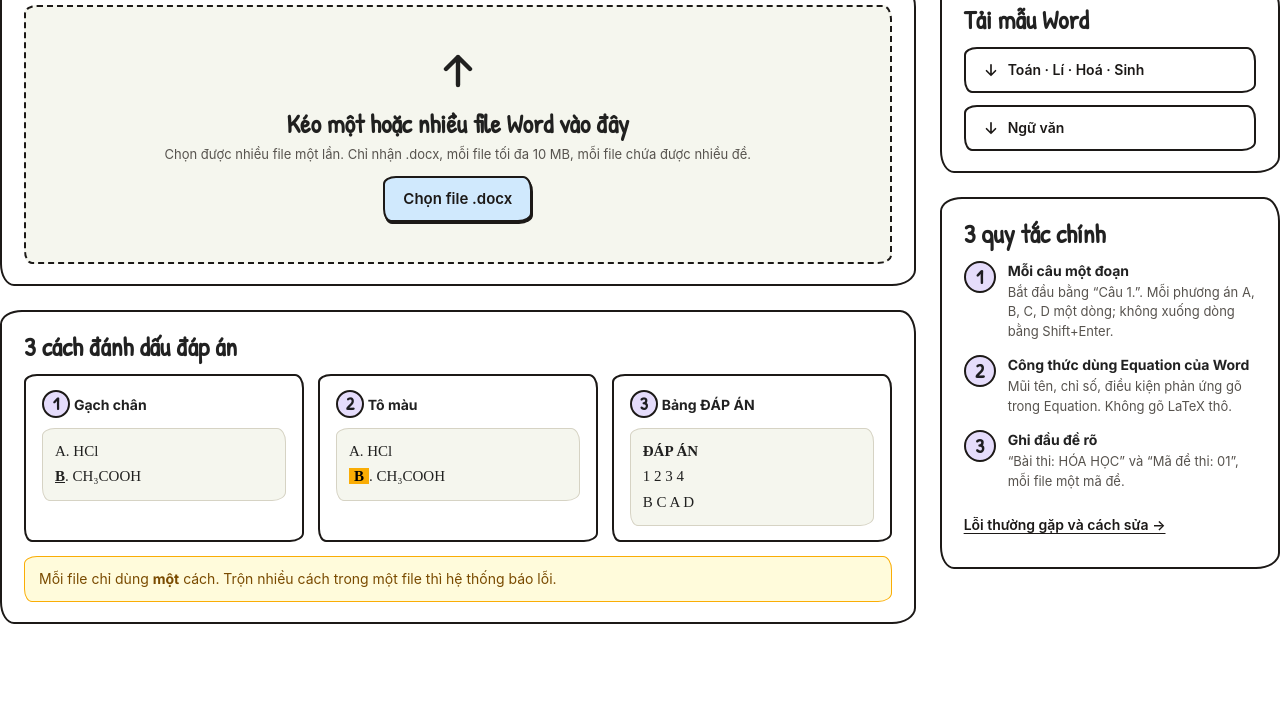
Test: ImportExam: QC round (B1, B4, B5, B12) › B4: the upload page opens the guide as a dialog
(page scrolled)
# SPT-99: a dialog on the same screen, not another page
Click the button "Lỗi thường gặp và cách sửa →" at (1065, 525), box [964,503,1166,547]
(page scrolled)
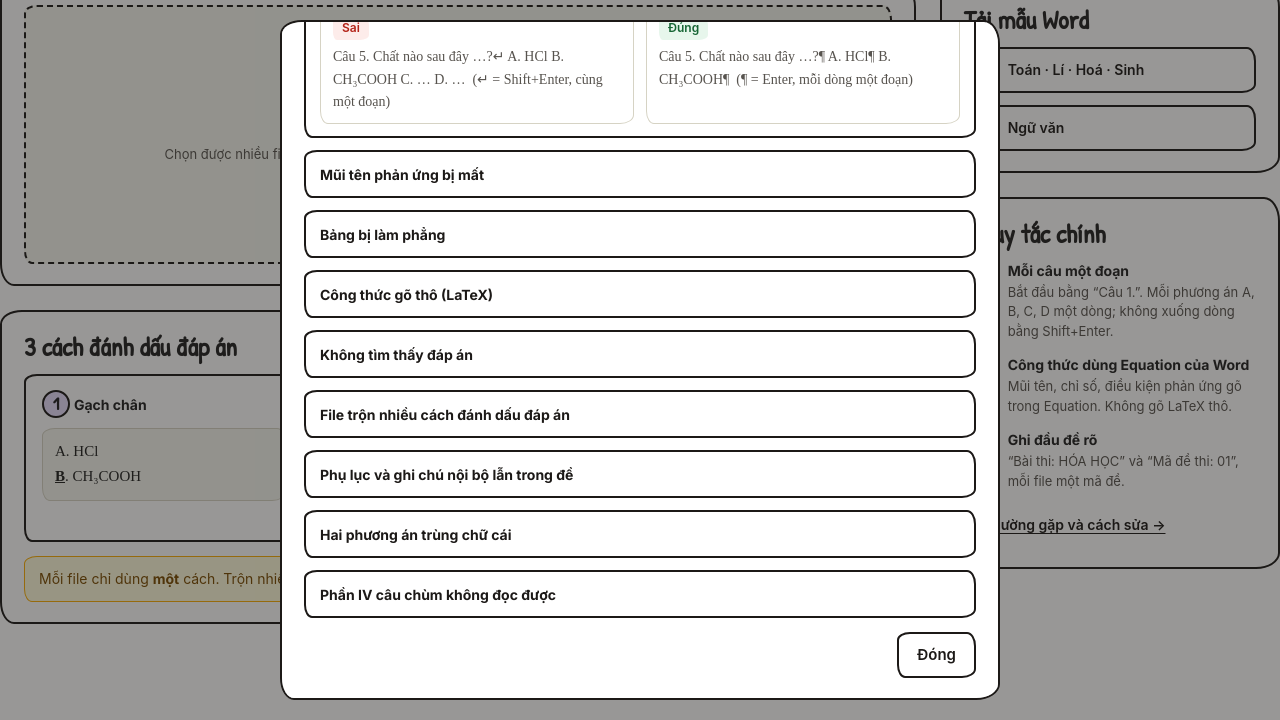
expect the dialog "Lỗi thường gặp và cách sửa" is shown: met, box [280,20,1000,700]
Click the button "Đóng" at (936, 655), box [897,632,976,678]
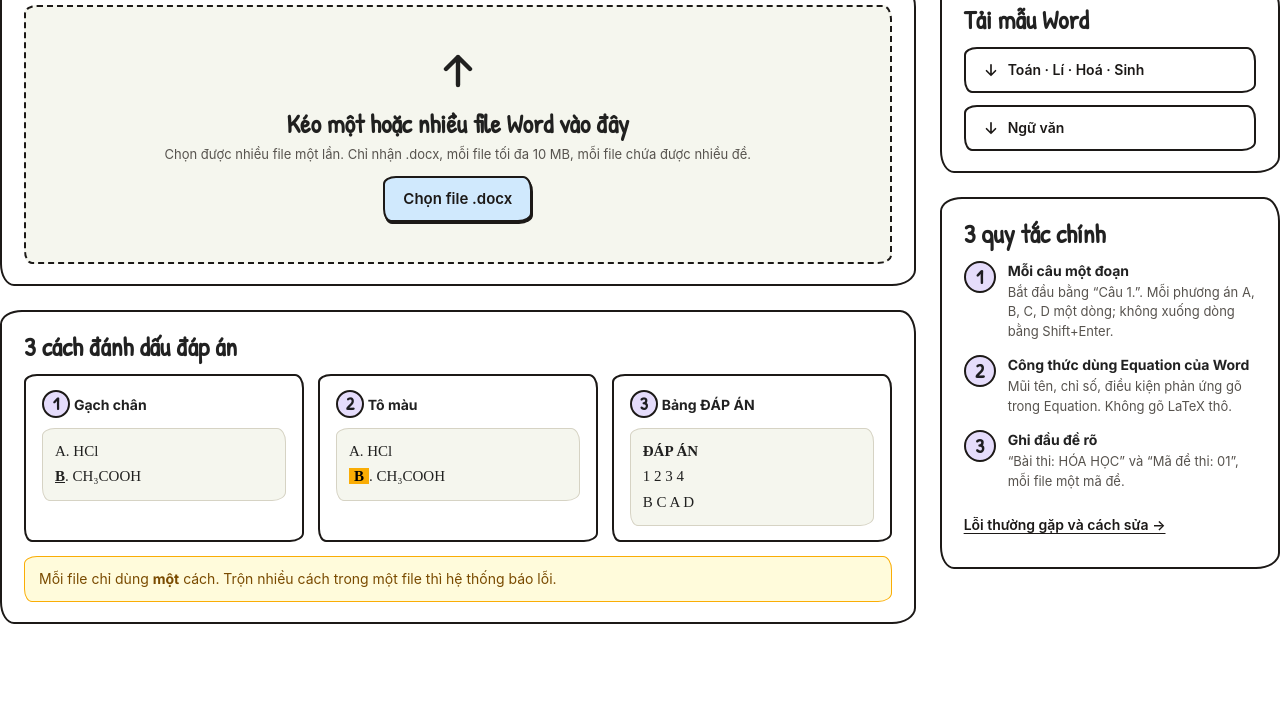
expect the dialog is gone: met
